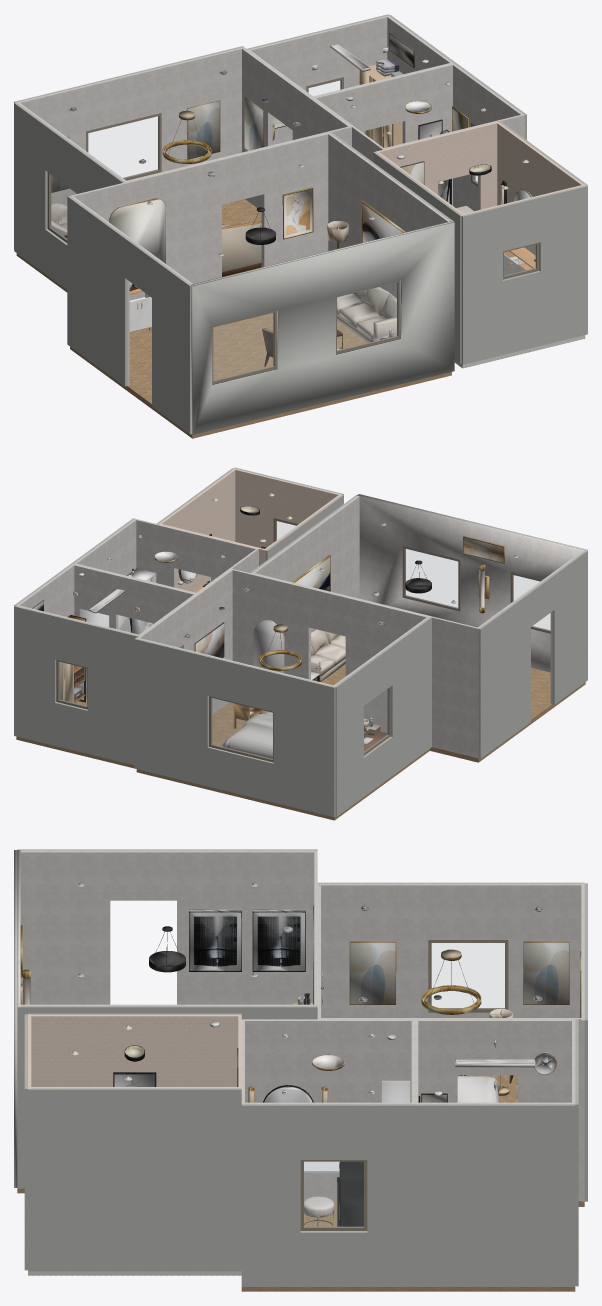
File: scene_named.glb
The picture shows the model from 3 angles, top to bottom: view 1: azimuth 30°, elevation 25°; view 2: azimuth 150°, elevation 25°; view 3: azimuth 270°, elevation 25°; orthographic projection. The views are drawn at different scales.
Parts seen in each view (by area): view 1: south_wall_exterior_living_room/south_wall_exterior_living_r, south_wall_exterior_bathroom/south_wall_exterior_bathroom/ge, north_wall_living_room/north_wall_living_room/geometry_0, west_wall_exterior_living_room/west_wall_exterior_living_roo, north_wall_bedroom/north_wall_bedroom/geometry_0, west_wall_exterior_bedroom/west_wall_exterior_bedroom/geomet, floor_living_room, east_wall_living_room/east_wall_living_room/geometry_0, north_wall_dressing_room/north_wall_dressing_room/geometry_0, north_wall_walk_in_closet/north_wall_walk_in_closet/geometry, north_wall_bathroom/north_wall_bathroom/geometry_0, east_wall_bedroom/east_wall_bedroom/geometry_0 (+28 smaller); view 2: north_wall_exterior_bedroom/north_wall_exterior_bedroom/geom, north_wall_exterior_walk_in_closet/north_wall_exterior_walk_, south_wall_living_room/south_wall_living_room/geometry_0, west_wall_exterior_living_room/west_wall_exterior_living_roo, west_wall_exterior_bedroom/west_wall_exterior_bedroom/geomet, south_wall_bedroom/south_wall_bedroom/geometry_0, north_wall_living_room/north_wall_living_room/geometry_0, east_wall_living_room/east_wall_living_room/geometry_0, south_wall_bathroom/south_wall_bathroom/geometry_0, south_wall_dressing_room/south_wall_dressing_room/geometry_0, south_wall_walk_in_closet/south_wall_walk_in_closet/geometry, east_wall_bedroom/east_wall_bedroom/geometry_0 (+24 smaller); view 3: east_wall_exterior_bathroom/east_wall_exterior_bathroom/geom, west_wall_living_room/west_wall_living_room/geometry_0, east_wall_exterior_walk_in_closet/east_wall_exterior_walk_in, east_wall_exterior_dressing_room/east_wall_exterior_dressing, west_wall_bedroom/west_wall_bedroom/geometry_0, west_wall_bathroom/west_wall_bathroom/geometry_0, west_wall_dressing_room/west_wall_dressing_room/geometry_0, west_wall_walk_in_closet/west_wall_walk_in_closet/geometry_0, east_wall_exterior_living_room/east_wall_exterior_living_roo, window_4_bedroom/window_4_bedroom/glass, window_5_dressing_room/window_5_dressing_room/glass, photography_print_1 (+27 smaller).
Part boxes in pixels (x1=…): south_wall_exterior_living_room/south_wall_exterior_living_r: x1=191, y1=222, x2=454, y2=434; south_wall_exterior_bathroom/south_wall_exterior_bathroom/ge: x1=461, y1=185, x2=587, y2=364; north_wall_living_room/north_wall_living_room/geometry_0: x1=72, y1=133, x2=328, y2=300; west_wall_exterior_living_room/west_wall_exterior_living_roo: x1=67, y1=196, x2=191, y2=434; north_wall_bedroom/north_wall_bedroom/geometry_0: x1=15, y1=47, x2=245, y2=205; west_wall_exterior_bedroom/west_wall_exterior_bedroom/geomet: x1=14, y1=103, x2=124, y2=289; floor_living_room: x1=70, y1=313, x2=451, y2=438; east_wall_living_room/east_wall_living_room/geometry_0: x1=327, y1=132, x2=449, y2=298; north_wall_dressing_room/north_wall_dressing_room/geometry_0: x1=313, y1=63, x2=454, y2=205; north_wall_walk_in_closet/north_wall_walk_in_closet/geometry: x1=249, y1=16, x2=387, y2=144; north_wall_bathroom/north_wall_bathroom/geometry_0: x1=376, y1=122, x2=498, y2=209; east_wall_bedroom/east_wall_bedroom/geometry_0: x1=242, y1=48, x2=351, y2=207; north_wall_exterior_bedroom/north_wall_exterior_bedroom/geom: x1=134, y1=638, x2=335, y2=817; north_wall_exterior_walk_in_closet/north_wall_exterior_walk_: x1=14, y1=605, x2=139, y2=764; south_wall_living_room/south_wall_living_room/geometry_0: x1=357, y1=495, x2=586, y2=672; west_wall_exterior_living_room/west_wall_exterior_living_roo: x1=478, y1=551, x2=587, y2=758; west_wall_exterior_bedroom/west_wall_exterior_bedroom/geomet: x1=335, y1=617, x2=431, y2=816; south_wall_bedroom/south_wall_bedroom/geometry_0: x1=232, y1=569, x2=427, y2=732; north_wall_living_room/north_wall_living_room/geometry_0: x1=254, y1=573, x2=478, y2=757; east_wall_living_room/east_wall_living_room/geometry_0: x1=252, y1=496, x2=359, y2=632; south_wall_bathroom/south_wall_bathroom/geometry_0: x1=233, y1=468, x2=342, y2=547; south_wall_dressing_room/south_wall_dressing_room/geometry_0: x1=134, y1=518, x2=258, y2=587; south_wall_walk_in_closet/south_wall_walk_in_closet/geometry: x1=73, y1=564, x2=196, y2=697; east_wall_bedroom/east_wall_bedroom/geometry_0: x1=138, y1=569, x2=233, y2=714; east_wall_exterior_bathroom/east_wall_exterior_bathroom/geom: x1=28, y1=1088, x2=241, y2=1271; west_wall_living_room/west_wall_living_room/geometry_0: x1=20, y1=850, x2=317, y2=1004; east_wall_exterior_walk_in_closet/east_wall_exterior_walk_in: x1=415, y1=1104, x2=575, y2=1286; east_wall_exterior_dressing_room/east_wall_exterior_dressing: x1=241, y1=1104, x2=414, y2=1286; west_wall_bedroom/west_wall_bedroom/geometry_0: x1=317, y1=884, x2=581, y2=1017; west_wall_bathroom/west_wall_bathroom/geometry_0: x1=31, y1=1015, x2=238, y2=1086; west_wall_dressing_room/west_wall_dressing_room/geometry_0: x1=242, y1=1019, x2=414, y2=1202; west_wall_walk_in_closet/west_wall_walk_in_closet/geometry_0: x1=415, y1=1019, x2=575, y2=1102; east_wall_exterior_living_room/east_wall_exterior_living_roo: x1=17, y1=1006, x2=317, y2=1188; window_4_bedroom/window_4_bedroom/glass: x1=432, y1=943, x2=504, y2=1008; window_5_dressing_room/window_5_dressing_room/glass: x1=304, y1=1162, x2=363, y2=1226; photography_print_1: x1=252, y1=909, x2=305, y2=971.
Size of the model in its own units: 9.08 by 3.1 by 8.6.
Materials: 144 (126 with a texture image).
